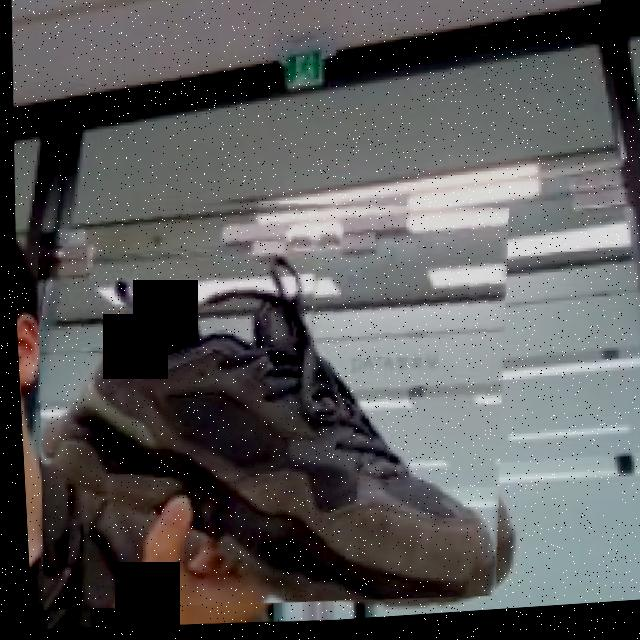shoe: (20, 174, 522, 626)
